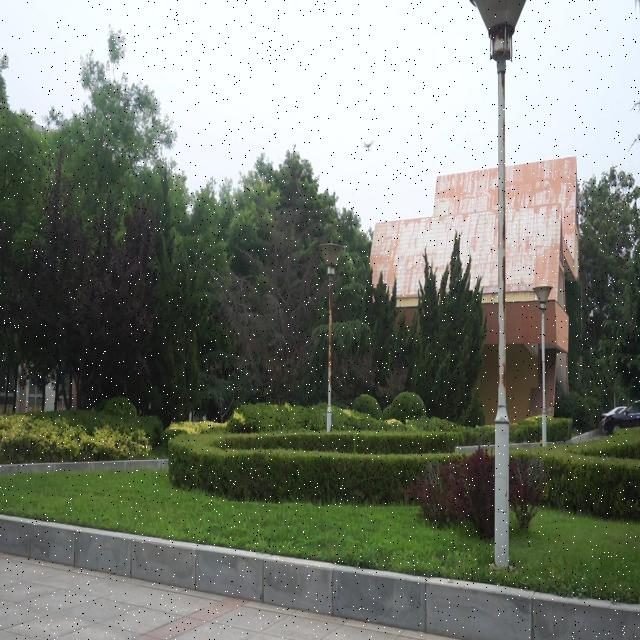UAV: (362, 138, 376, 153)
